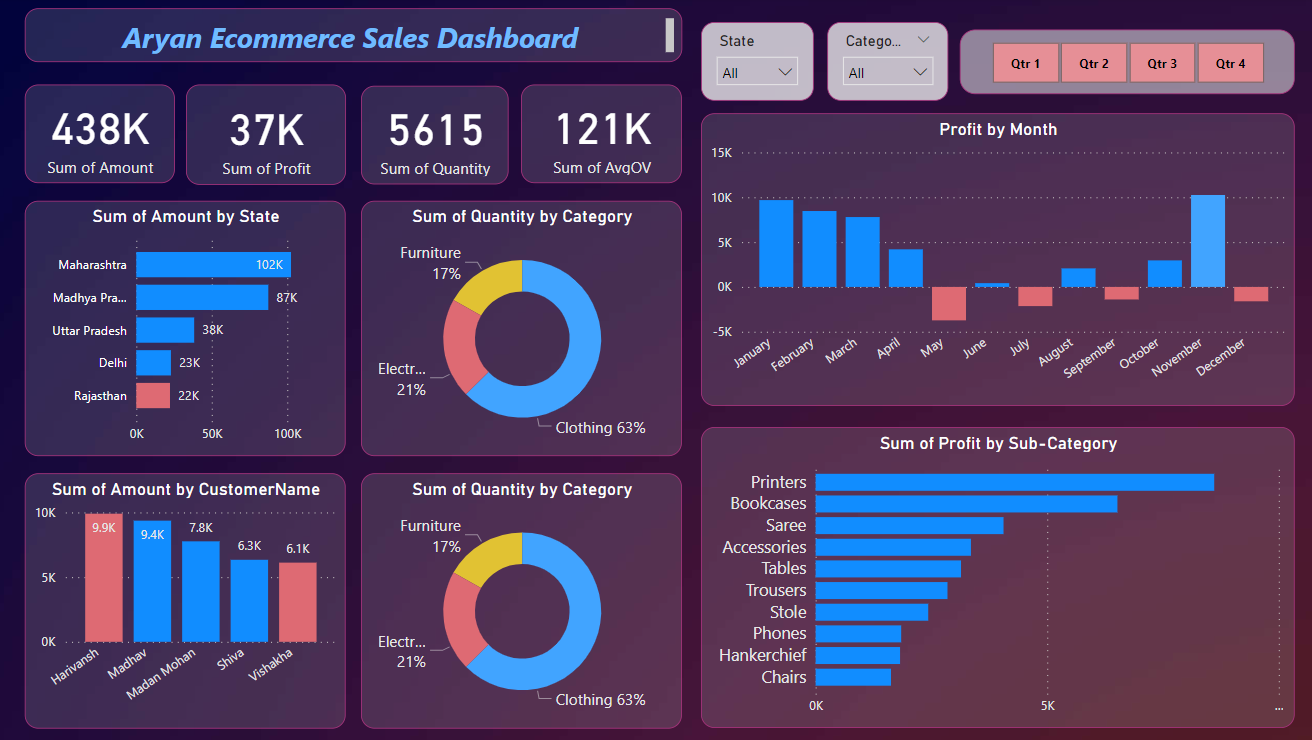

What the dashboard file says about the page in this screenshot:
{"tool":"powerbi","page":{"name":"Page 1","canvas":[1280,720],"ordinal":0},"visuals":[{"type":"textbox","box":[27.7,10.9,634.4,51.9],"z":0},{"type":"columnChart","title":"Profit by Month","fields":{"Y":["org_Details.Profit"],"Category":["Orders.Order Date.Variation.Date Hierarchy.Month"]},"box":[680.2,112.2,572.9,282.2],"z":1},{"type":"barChart","fields":{"Category":["org_Details.Sub-Category"],"Y":["org_Details.Profit"]},"box":[680.2,414.9,572.9,290.7],"z":2},{"type":"clusteredBarChart","fields":{"Category":["Orders.State"],"Y":["org_Details.Amount"]},"box":[27.7,196.6,309.9,246],"z":3},{"type":"columnChart","fields":{"Y":["org_Details.Amount"],"Category":["Orders.CustomerName"]},"box":[27.7,459.5,309.9,246],"z":4},{"type":"donutChart","fields":{"Y":["org_Details.Quantity"],"Category":["org_Details.Category"]},"box":[352.2,196.6,309.9,246],"z":5},{"type":"donutChart","fields":{"Y":["org_Details.Quantity"],"Category":["org_Details.Category"]},"box":[352.2,459.5,309.9,246],"z":6},{"type":"card","fields":{"Values":["org_Details.Amount"]},"box":[27.7,84.4,144.7,95.3],"z":7},{"type":"card","fields":{"Values":["org_Details.Profit"]},"box":[183.3,84.4,154.4,96.5],"z":8},{"type":"card","fields":{"Values":["org_Details.Quantity"]},"box":[352.2,85.6,142.3,95.3],"z":9},{"type":"card","fields":{"Values":["org_Details.AvgOV"]},"box":[506.5,84.4,155.6,95.3],"z":10},{"type":"slicer","fields":{"Values":["Orders.Order Date.Variation.Date Hierarchy.Quarter"]},"box":[929.8,31.4,323.2,62.7],"z":11},{"type":"slicer","fields":{"Values":["Orders.State"]},"box":[680.2,24.1,108.5,76],"z":12},{"type":"slicer","fields":{"Values":["org_Details.Category"]},"box":[802,24.1,117,76],"z":13}]}

Visuals, with their boxes in screenshot pixels (x1, y1, x2, y2), scaled from the page's 1280x720 canvas onto the 1312x740 screenshot:
textbox: <bbox>28, 11, 679, 65</bbox>
"Profit by Month" columnChart: <bbox>697, 115, 1284, 405</bbox>
barChart - org_Details.Sub-Category x org_Details.Profit: <bbox>697, 426, 1284, 725</bbox>
clusteredBarChart - Orders.State x org_Details.Amount: <bbox>28, 202, 346, 455</bbox>
columnChart - org_Details.Amount x Orders.CustomerName: <bbox>28, 472, 346, 725</bbox>
donutChart - org_Details.Quantity x org_Details.Category: <bbox>361, 202, 679, 455</bbox>
donutChart - org_Details.Quantity x org_Details.Category: <bbox>361, 472, 679, 725</bbox>
card - org_Details.Amount: <bbox>28, 87, 177, 185</bbox>
card - org_Details.Profit: <bbox>188, 87, 346, 186</bbox>
card - org_Details.Quantity: <bbox>361, 88, 507, 186</bbox>
card - org_Details.AvgOV: <bbox>519, 87, 679, 185</bbox>
slicer - Orders.Order Date.Variation.Date Hierarchy.Quarter: <bbox>953, 32, 1284, 97</bbox>
slicer - Orders.State: <bbox>697, 25, 808, 103</bbox>
slicer - org_Details.Category: <bbox>822, 25, 942, 103</bbox>
